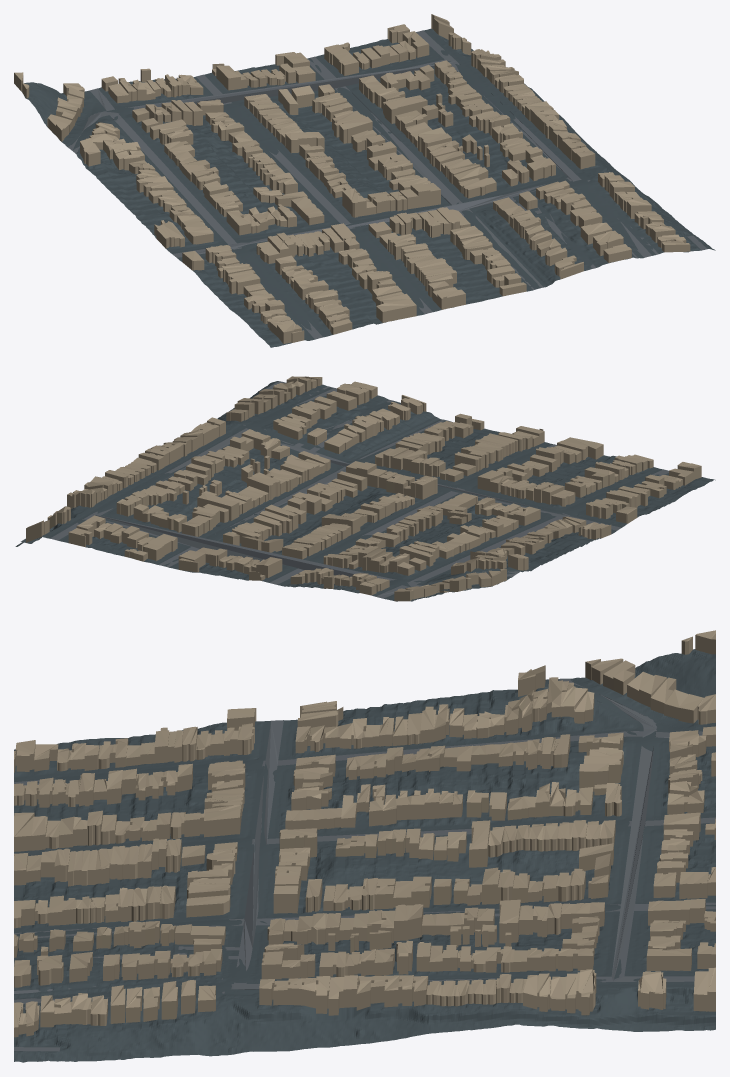
Rendered from epsg26910-1424-10882.lod0.glb.
3 renders of one model, top to bottom at view 1: azimuth 30°, elevation 25°; view 2: azimuth 150°, elevation 25°; view 3: azimuth 270°, elevation 25°, orthographic. The views are drawn at different scales.
Parts seen in each view (by area): view 1: epsg26910-1424-10882-lod0; view 2: epsg26910-1424-10882-lod0; view 3: epsg26910-1424-10882-lod0.
Part boxes in pixels (x1,y1,x2,y2): epsg26910-1424-10882-lod0: [14, 14, 715, 347]; epsg26910-1424-10882-lod0: [15, 376, 715, 601]; epsg26910-1424-10882-lod0: [14, 630, 715, 1062].
Bounding box in the file's own units: 384 × 81.93 × 384.
